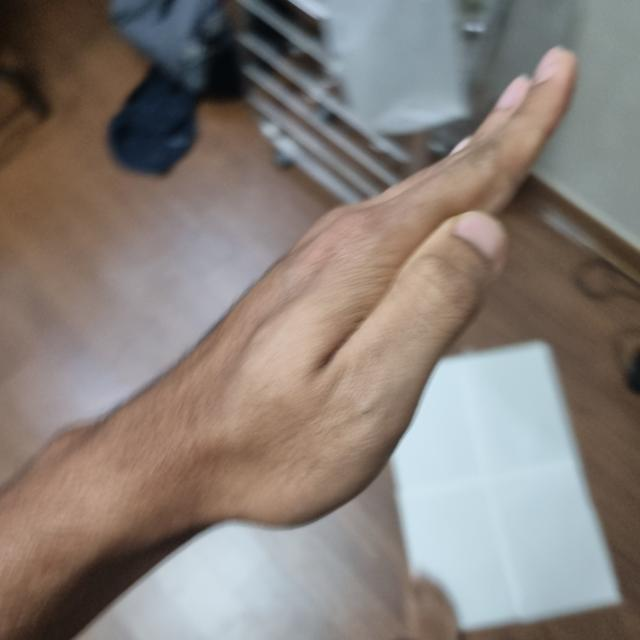Paper: (117, 53, 570, 530)
